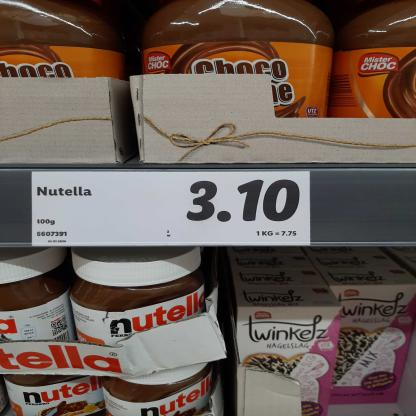prtg: (32, 172, 311, 247)
